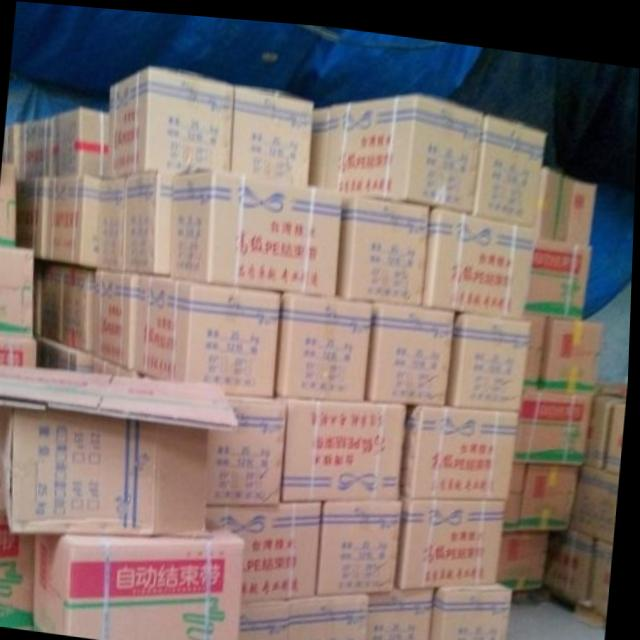box: (0, 407, 218, 534), (37, 512, 247, 640), (172, 160, 344, 291), (325, 86, 485, 205), (140, 272, 283, 394), (109, 65, 235, 176), (286, 391, 409, 496), (424, 202, 540, 309), (211, 496, 326, 599), (403, 394, 521, 492), (277, 288, 375, 396), (338, 189, 432, 297), (400, 491, 507, 583), (211, 391, 291, 502), (321, 488, 407, 591), (370, 297, 457, 398), (449, 304, 532, 404), (232, 81, 315, 180), (472, 107, 547, 216), (0, 462, 38, 630), (25, 105, 112, 176), (518, 379, 597, 456), (433, 573, 518, 640), (526, 227, 594, 310), (125, 166, 176, 274), (49, 174, 102, 267), (541, 309, 605, 381), (96, 267, 142, 367), (372, 576, 439, 640), (523, 456, 586, 522), (293, 588, 372, 640), (549, 519, 601, 593), (575, 456, 623, 535), (590, 372, 630, 460), (0, 244, 37, 336), (501, 522, 554, 581), (18, 176, 56, 257), (536, 157, 577, 231), (100, 173, 129, 270), (66, 263, 96, 352), (243, 594, 294, 640), (39, 335, 96, 370), (43, 261, 66, 342), (593, 529, 617, 606), (311, 100, 333, 182), (570, 172, 599, 233), (506, 454, 531, 524), (527, 306, 550, 381), (0, 163, 19, 248), (609, 390, 629, 464), (3, 122, 24, 180), (0, 336, 39, 365), (94, 354, 143, 372), (38, 259, 44, 336)
